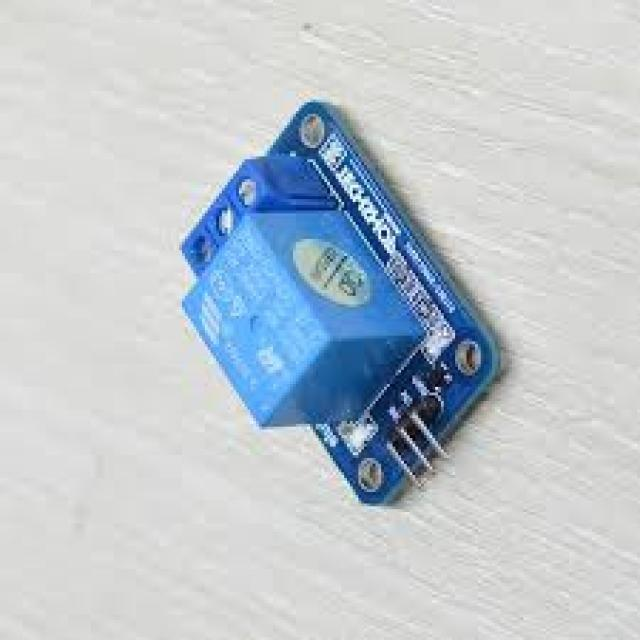Relay: (179, 100, 501, 506)
